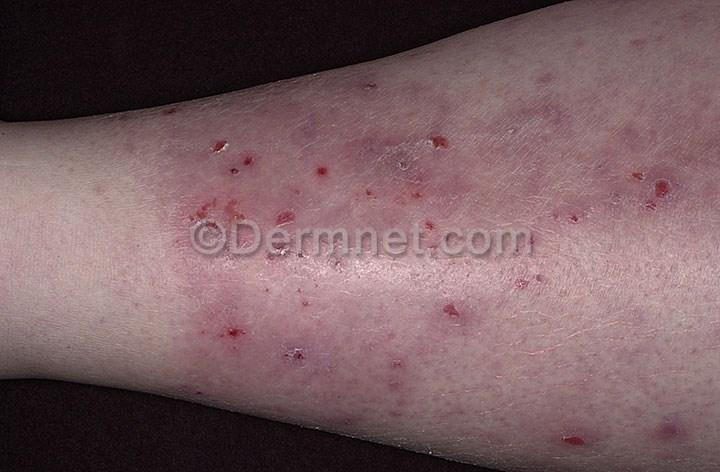Eczema: (197, 129, 277, 182), (262, 264, 317, 339), (184, 184, 254, 242), (484, 108, 563, 158), (193, 308, 263, 362), (471, 384, 575, 420), (623, 156, 679, 222), (296, 382, 362, 437), (352, 372, 421, 424), (107, 265, 181, 313), (350, 123, 417, 176), (341, 168, 396, 230), (325, 239, 378, 300), (547, 195, 624, 236), (428, 127, 478, 187), (292, 152, 355, 199), (458, 418, 529, 458), (618, 94, 669, 149), (557, 92, 598, 160), (409, 164, 447, 236), (324, 329, 389, 370), (581, 361, 649, 400), (384, 251, 466, 282), (179, 369, 240, 410), (625, 23, 677, 71), (422, 286, 476, 331), (504, 260, 567, 297), (372, 305, 410, 365), (650, 392, 685, 457), (673, 97, 720, 145), (515, 158, 568, 198), (556, 407, 600, 454), (420, 56, 463, 100), (268, 333, 314, 371), (291, 109, 334, 147), (569, 31, 613, 68), (265, 196, 300, 241), (402, 99, 440, 137), (149, 102, 191, 132), (692, 174, 720, 217), (519, 68, 561, 96), (113, 227, 147, 261), (484, 47, 519, 79), (250, 98, 297, 120), (357, 78, 386, 108), (113, 136, 141, 166), (84, 185, 116, 208)
